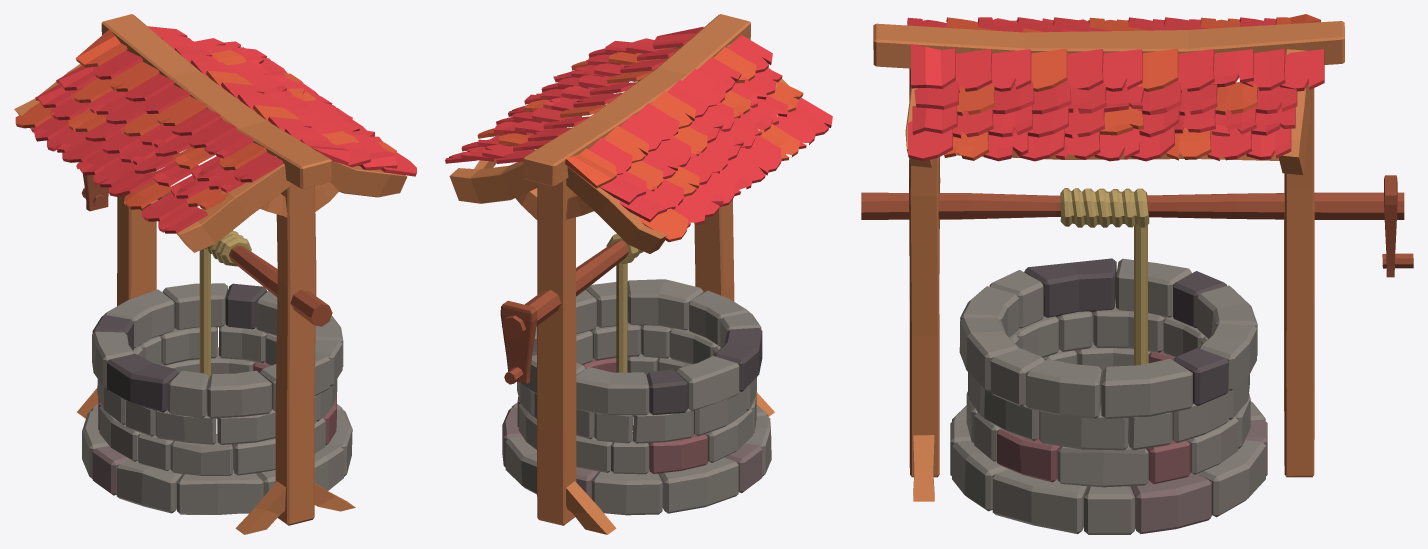
Rendered from well_updated.fbx.
3 views of the same model, side by side, from view 1: azimuth 30°, elevation 25°; view 2: azimuth 150°, elevation 25°; view 3: azimuth 270°, elevation 25° (orthographic). The views are drawn at different scales.
Parts seen in each view (by area): view 1: well; view 2: well; view 3: well.
Boxes of the visible parts, x1=… form: well: x1=14, y1=14, x2=416, y2=534; well: x1=445, y1=14, x2=832, y2=534; well: x1=861, y1=14, x2=1413, y2=534.
Bounding box in the file's own units: 489 × 706 × 801.
